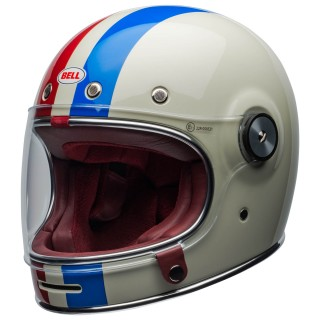with_helmet: (24, 4, 294, 310)
